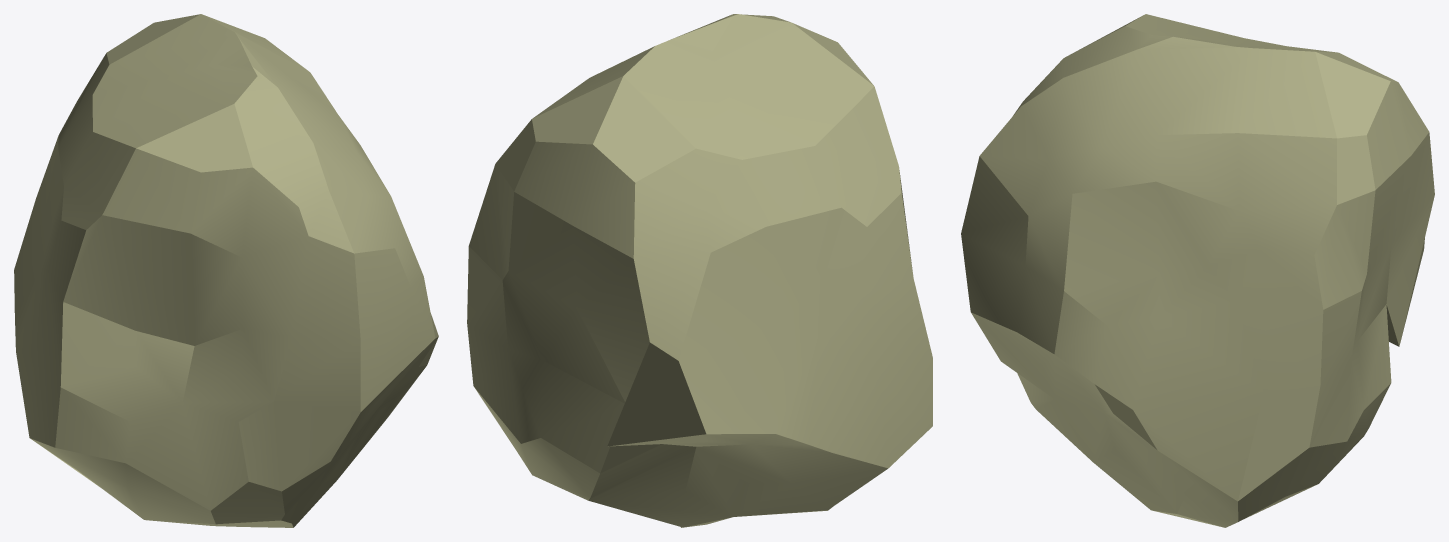
Rendered from rock.glb.
3 renders of one model, left to right at view 1: azimuth 30°, elevation 25°; view 2: azimuth 150°, elevation 25°; view 3: azimuth 270°, elevation 25°, orthographic. The views are drawn at different scales.
Parts seen in each view (by area): view 1: rock2; view 2: rock2; view 3: rock2.
Part boxes in pixels (x1,y1,x2,y2): rock2: (14, 14, 438, 527); rock2: (467, 14, 932, 527); rock2: (961, 14, 1434, 527).
Bounding box in the file's own units: 1.77 × 2.05 × 1.88.
Materials: 1 (1 with a texture image).
